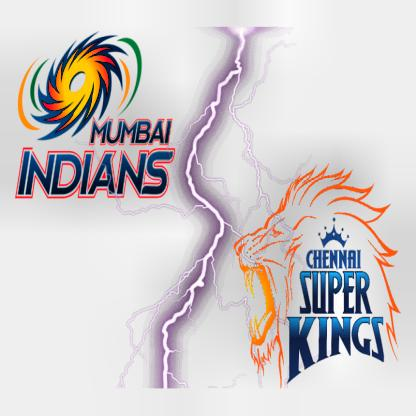Chennai Super kings: (234, 166, 401, 388)
Mumbai Indians: (12, 28, 176, 199)
